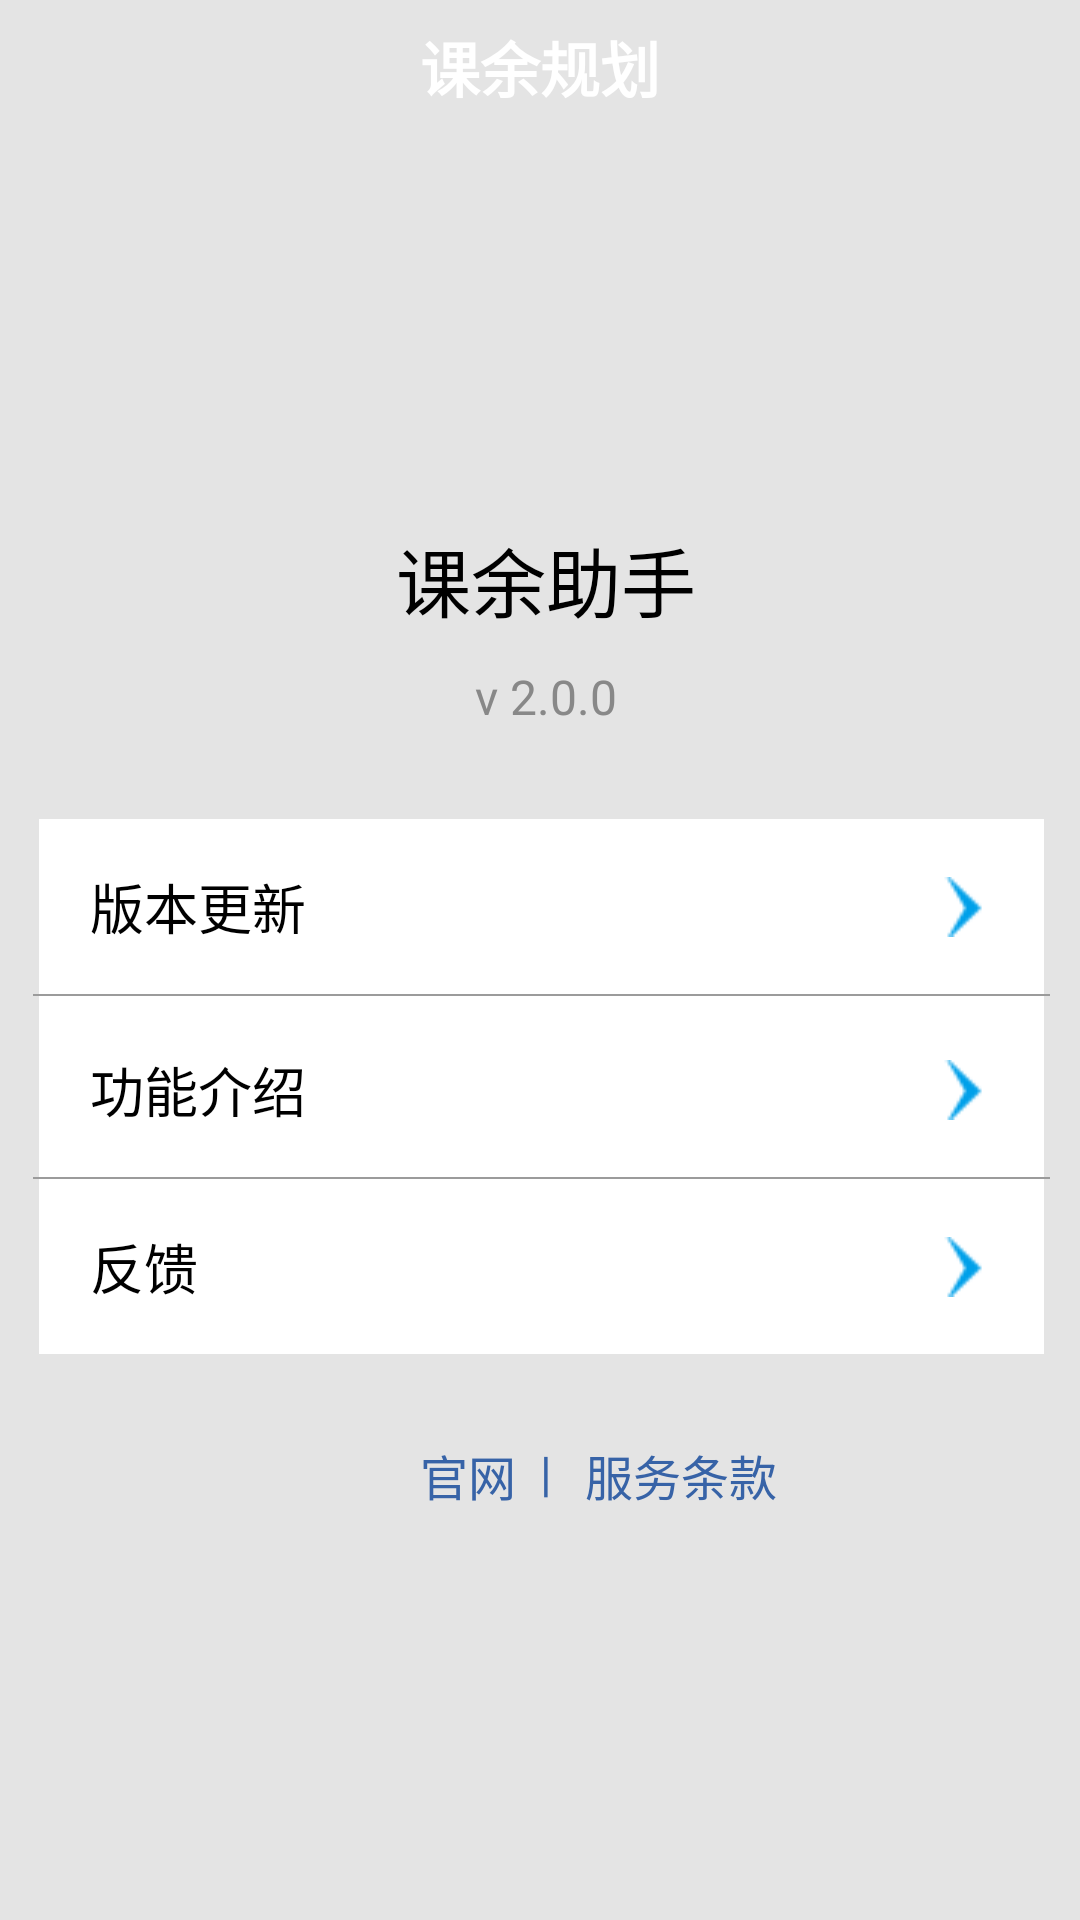

Named icons in this screenshot (1080×1920) and their centers, point (x, y):
jiao: point (963, 907), point (964, 1090), point (963, 1267)
